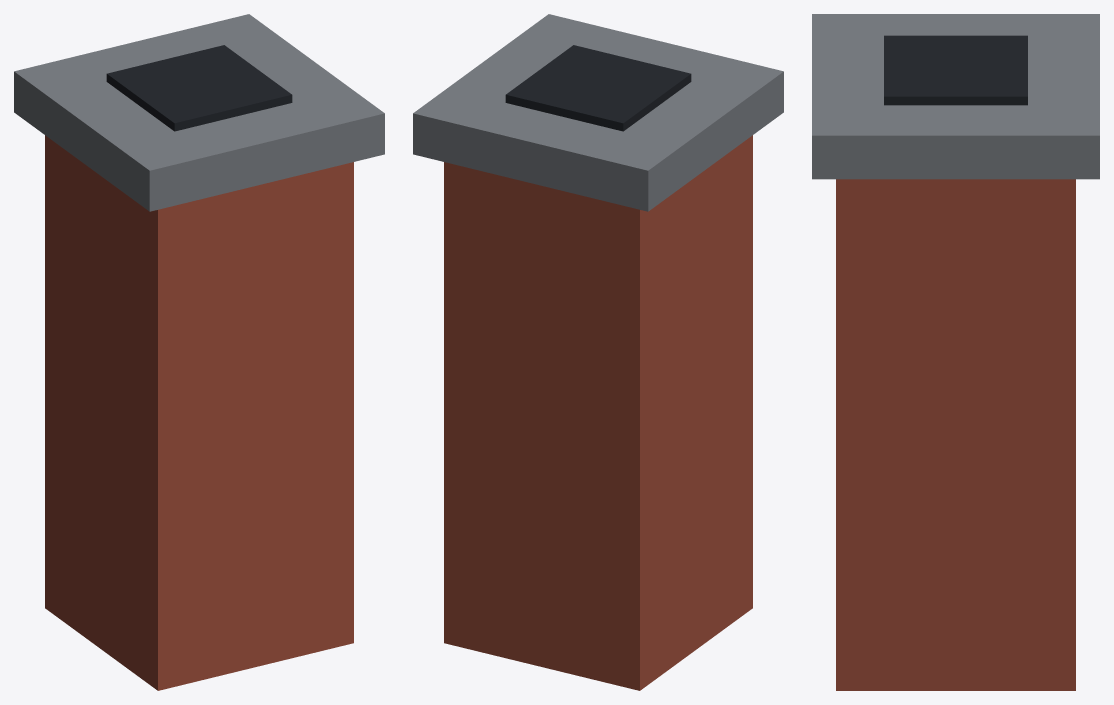
File: chimney.glb
3 views of the same model, side by side, from view 1: azimuth 30°, elevation 25°; view 2: azimuth 150°, elevation 25°; view 3: azimuth 270°, elevation 25° (orthographic). The views are drawn at different scales.
Visible parts, largest first — view 1: chimney; view 2: chimney; view 3: chimney.
Boxes of the visible parts, bbox=[...] form: chimney: bbox=[14, 14, 384, 690]; chimney: bbox=[413, 14, 783, 690]; chimney: bbox=[812, 14, 1099, 690].
Size of the model in its own units: 0.6 by 1.32 by 0.6.
